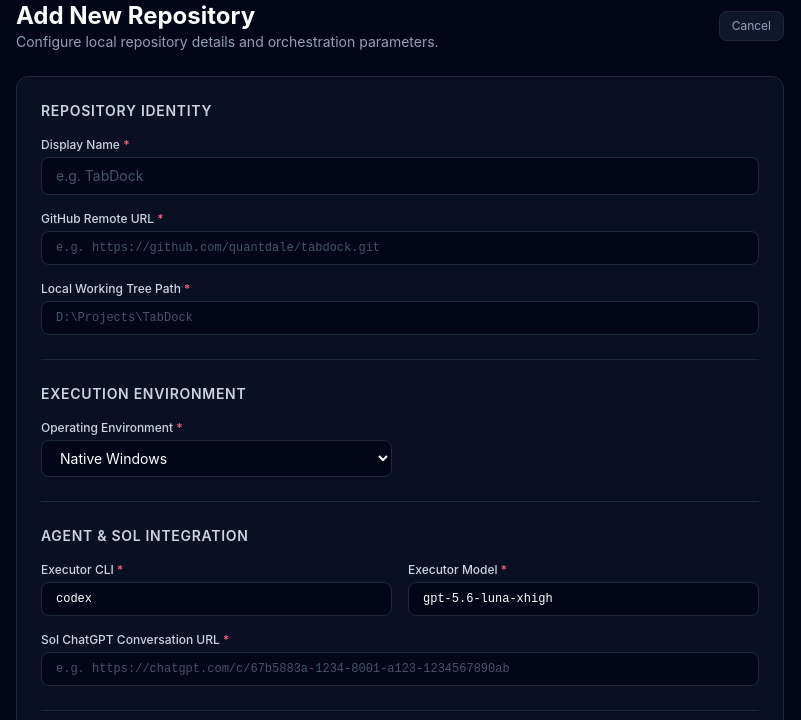
Repository UI & UX (Tests 8) › 8.T4 server validation preserves form input values
In the field with test id "input-githubRemote": (400, 248) [41,231,759,265], type "https://github.com/quantdale/custom.git"
(page scrolled)
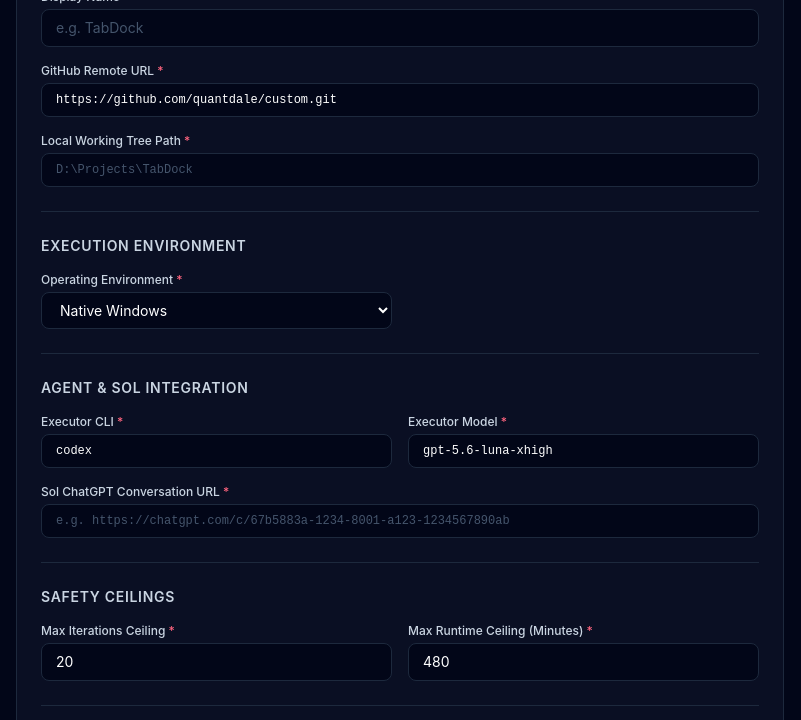
Submit the form with test id "repository-form"
(page scrolled)
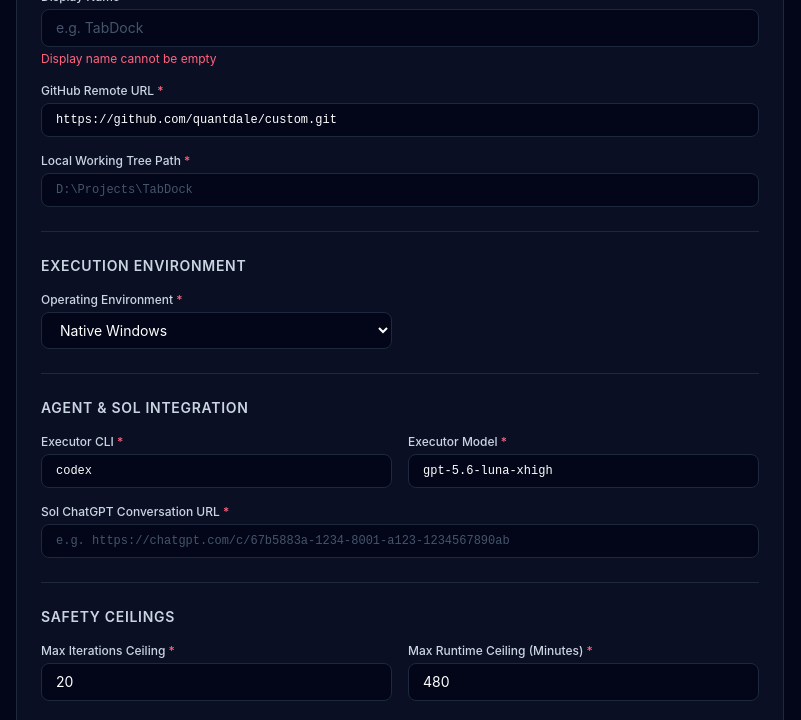
Expected: the text "Display name cannot be empty" is shown, [41,51,216,66]
